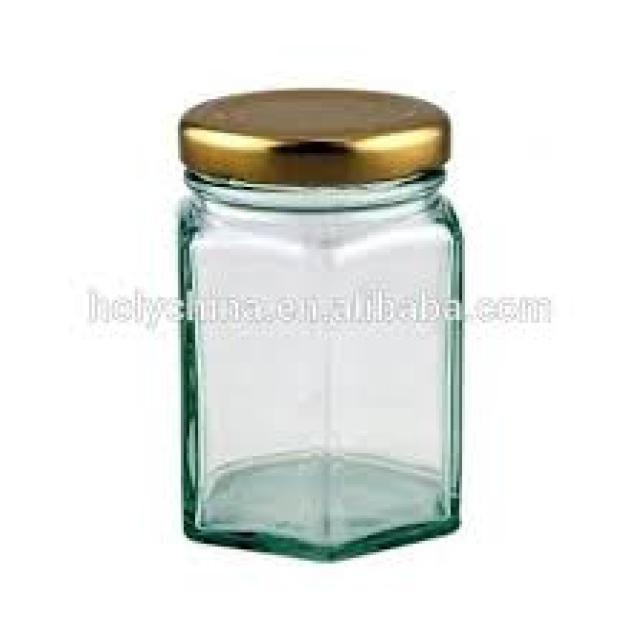glass: (178, 161, 459, 561)
metal: (178, 85, 445, 176)
